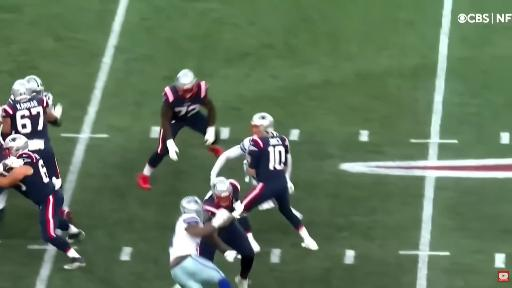Helmet: (174, 69, 197, 97), (180, 196, 204, 221), (212, 177, 232, 206), (4, 135, 28, 156), (11, 80, 32, 101), (251, 113, 273, 133), (25, 76, 44, 92)
Jersey: (3, 96, 49, 144), (15, 152, 55, 205), (248, 136, 289, 184), (163, 81, 207, 120), (169, 214, 202, 261), (204, 180, 240, 217), (239, 137, 252, 170), (35, 91, 53, 106), (239, 137, 252, 153)
Player: (0, 135, 85, 269), (234, 118, 318, 250), (138, 70, 222, 189), (2, 76, 61, 188), (2, 80, 62, 188), (169, 197, 236, 287), (218, 216, 260, 287), (211, 137, 251, 183), (211, 137, 250, 183), (24, 75, 53, 106)
